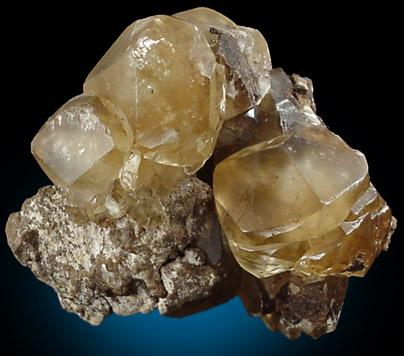calcite: (31, 7, 396, 278)
